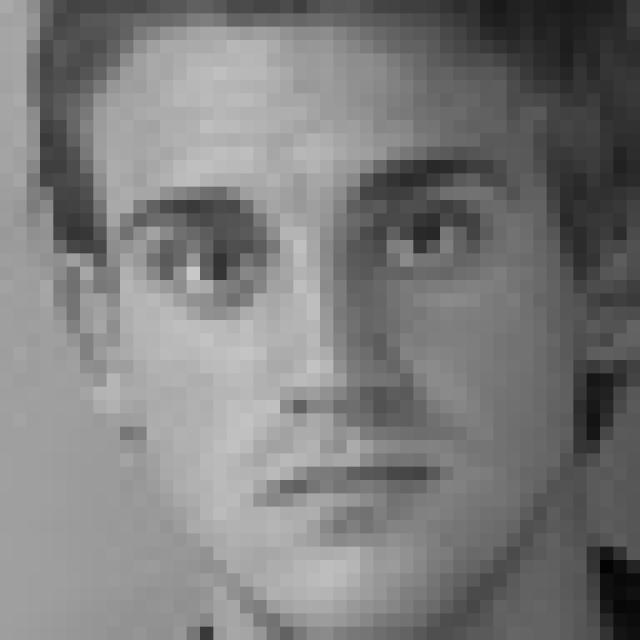neutral: (119, 146, 532, 553)
